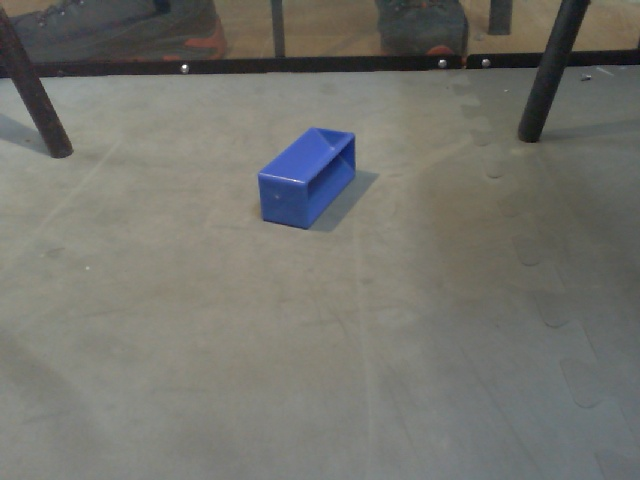BlueSample: (255, 126, 358, 231)
